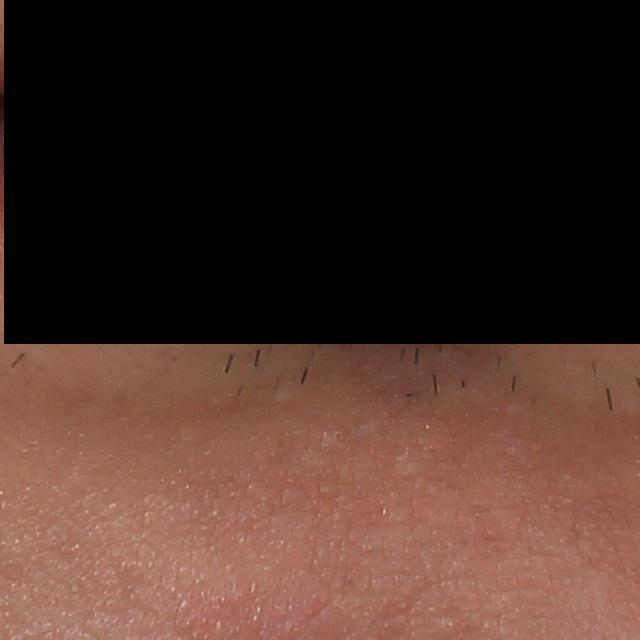hypertrophic_scar: (267, 387, 309, 410)
